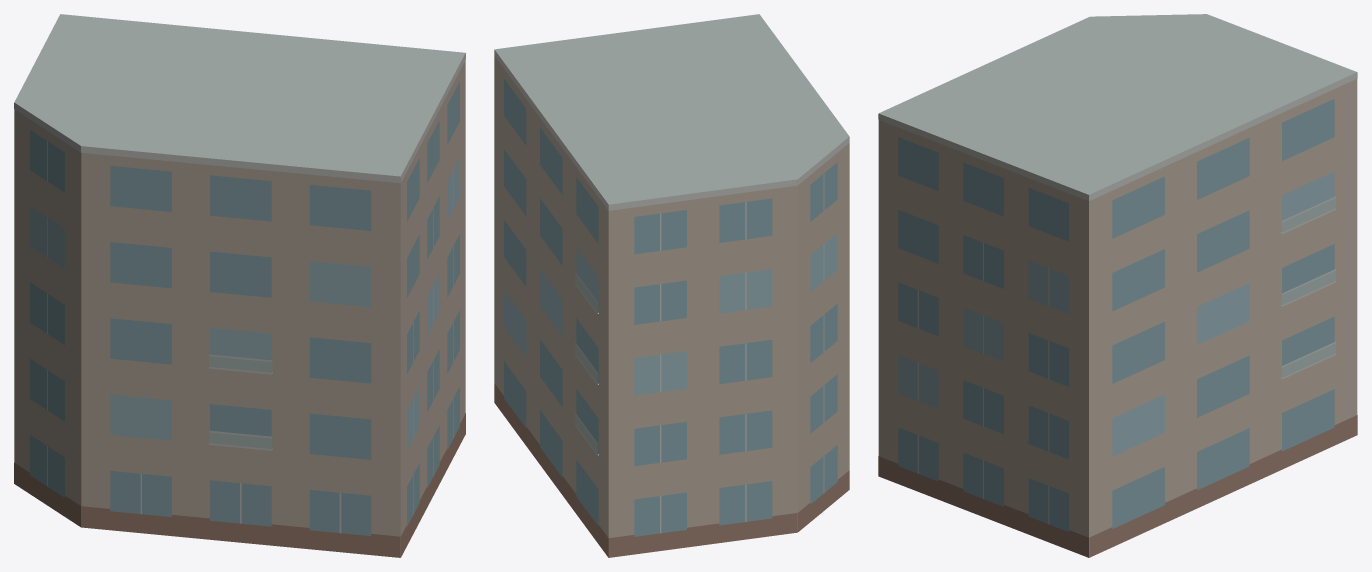
The model's file is survey-upis-32888373.glb.
The picture shows the model from 3 angles, left to right: view 1: azimuth 30°, elevation 25°; view 2: azimuth 150°, elevation 25°; view 3: azimuth 270°, elevation 25°; orthographic projection. The views are drawn at different scales.
Visible parts, largest first — view 1: survey-upis-32888373.tmp; view 2: survey-upis-32888373.tmp; view 3: survey-upis-32888373.tmp.
Boxes of the visible parts, bbox=[...] form: survey-upis-32888373.tmp: bbox=[14, 14, 465, 557]; survey-upis-32888373.tmp: bbox=[494, 14, 849, 557]; survey-upis-32888373.tmp: bbox=[878, 14, 1357, 557].
Bounding box in the file's own units: 14.87 × 13.9 × 16.63.
